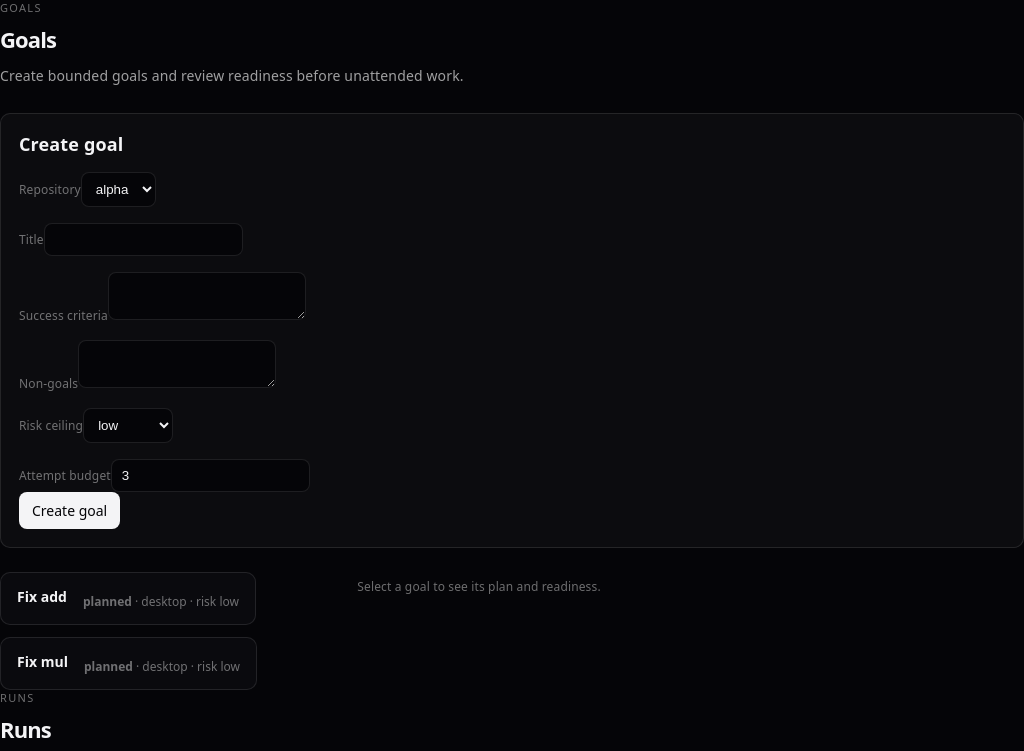
Test case: GoalsWorkbench › clears previous readiness when switching goals before the next report loads
Click the button "Fix add planned · desktop · risk low": (128, 599) [0,572,256,625]
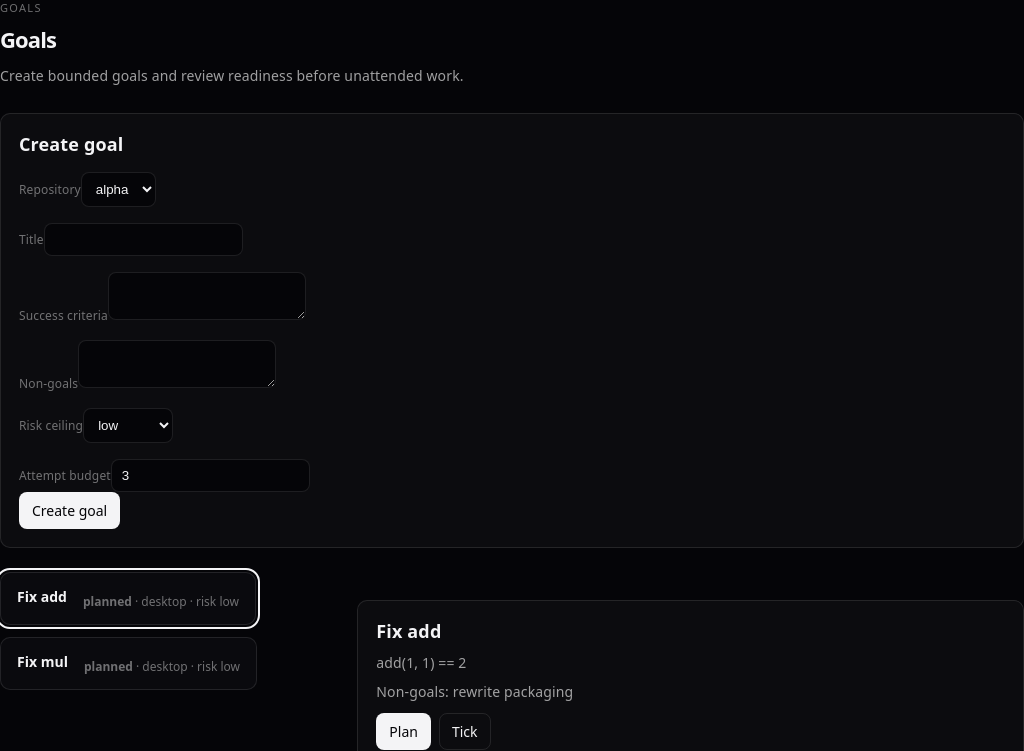
Click the button "Fix mul planned · desktop · risk low": (128, 664) [0,637,257,690]
(page scrolled)
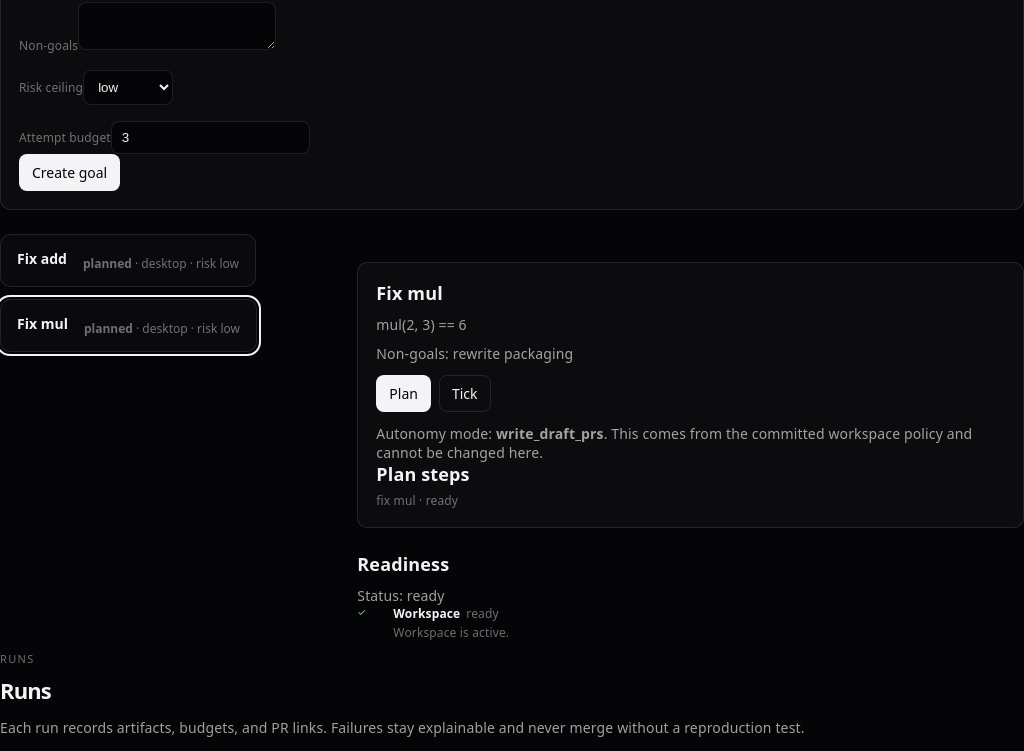
Expected: the heading "Fix mul" is shown, [376,281,443,305]
Expected: the text "Workspace" is shown, [393,605,460,622]
Expected: the text "Status: ready" is shown, [357,586,444,605]
